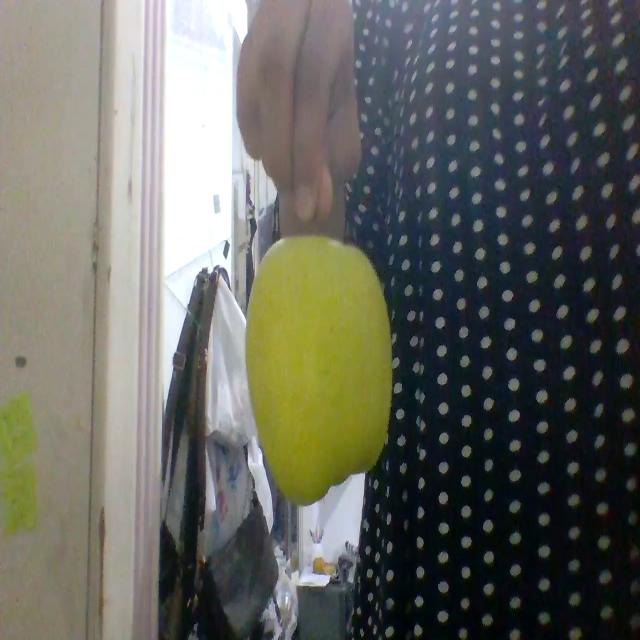50-_ripeness: (245, 236, 392, 506)
